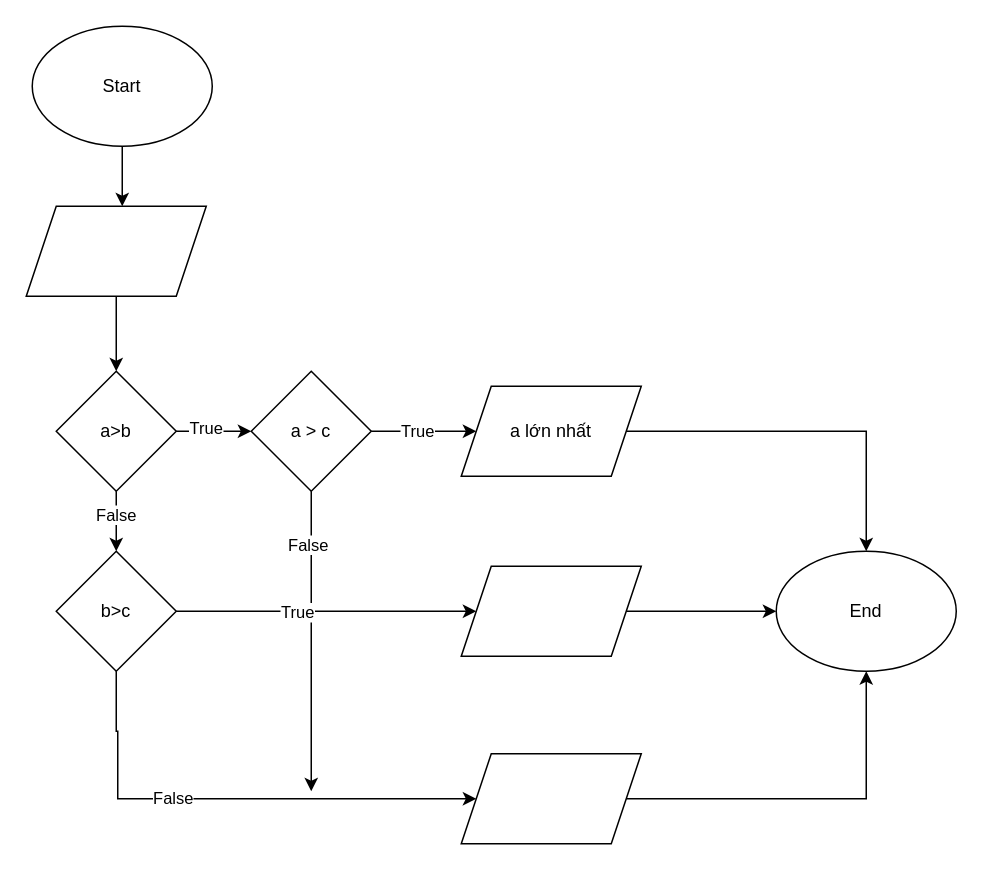
Image size: 983x870. Some labels were removed from this diagram. Each missing label, with the centre of its shape:
"b lớn nhất" goes at point 550,610.
"c lớn nhất" goes at point 550,798.
"int a, b, c" goes at point 115,250.
